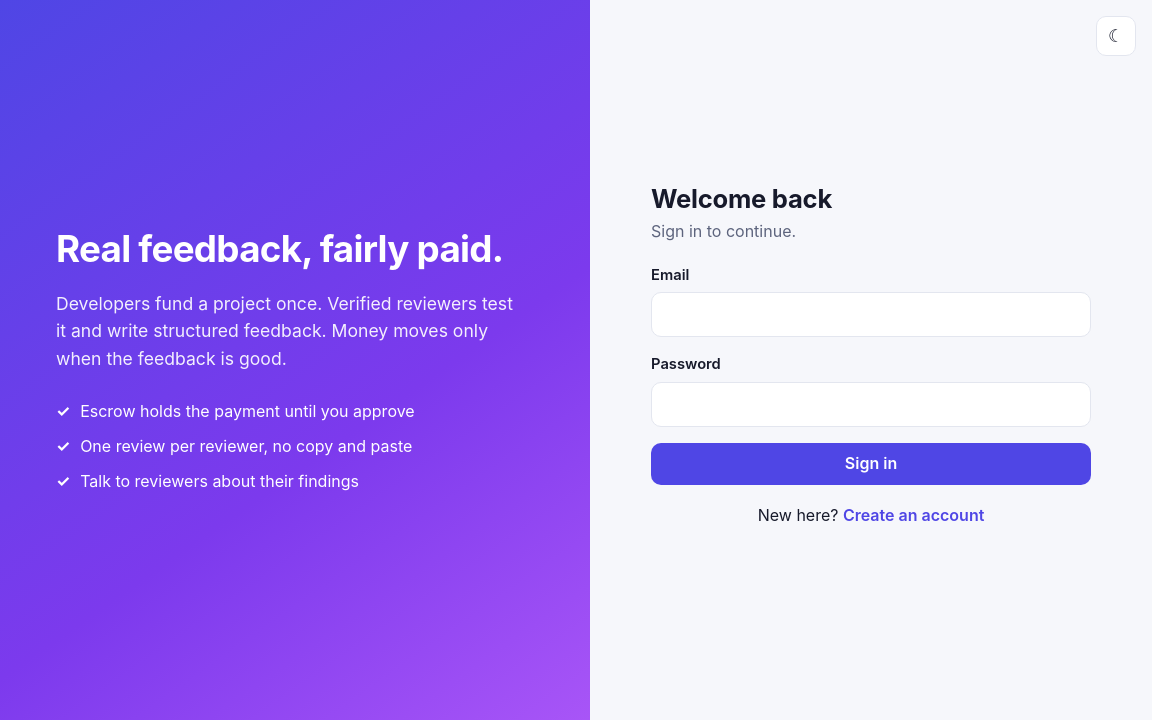
sign in › signs in and lands on the dashboard
This screenshot has width=1152, height=720.
Type "dana@demo.dev" into the field labelled "Email" at (871, 315), box [651,292,1091,337]
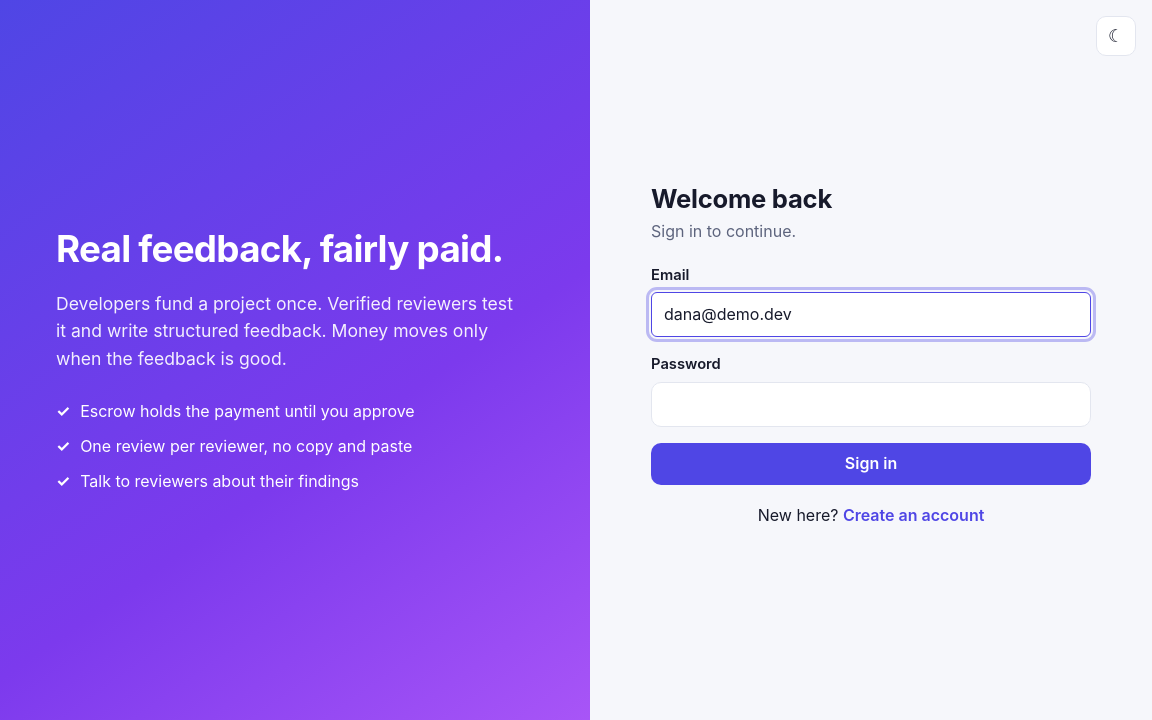
Type "Demo@1234" into the password field labelled "Password" at (871, 404), box [651,382,1091,427]
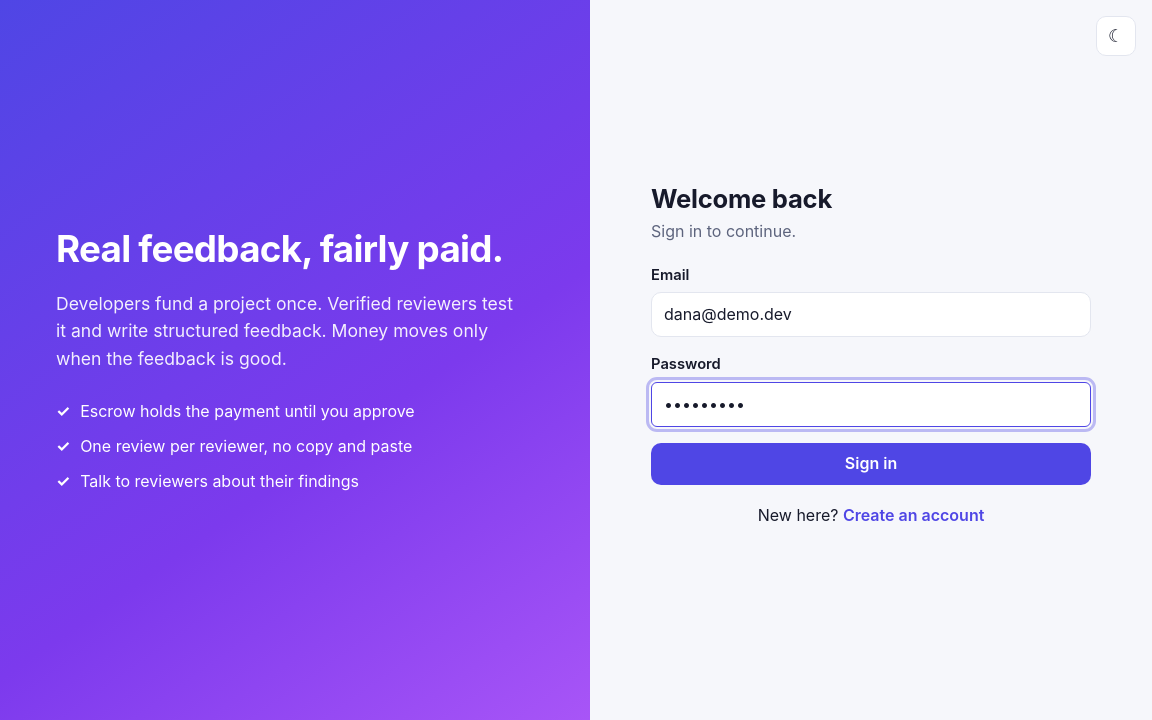
Click the button "Sign in" at (871, 464), box [651,443,1091,485]
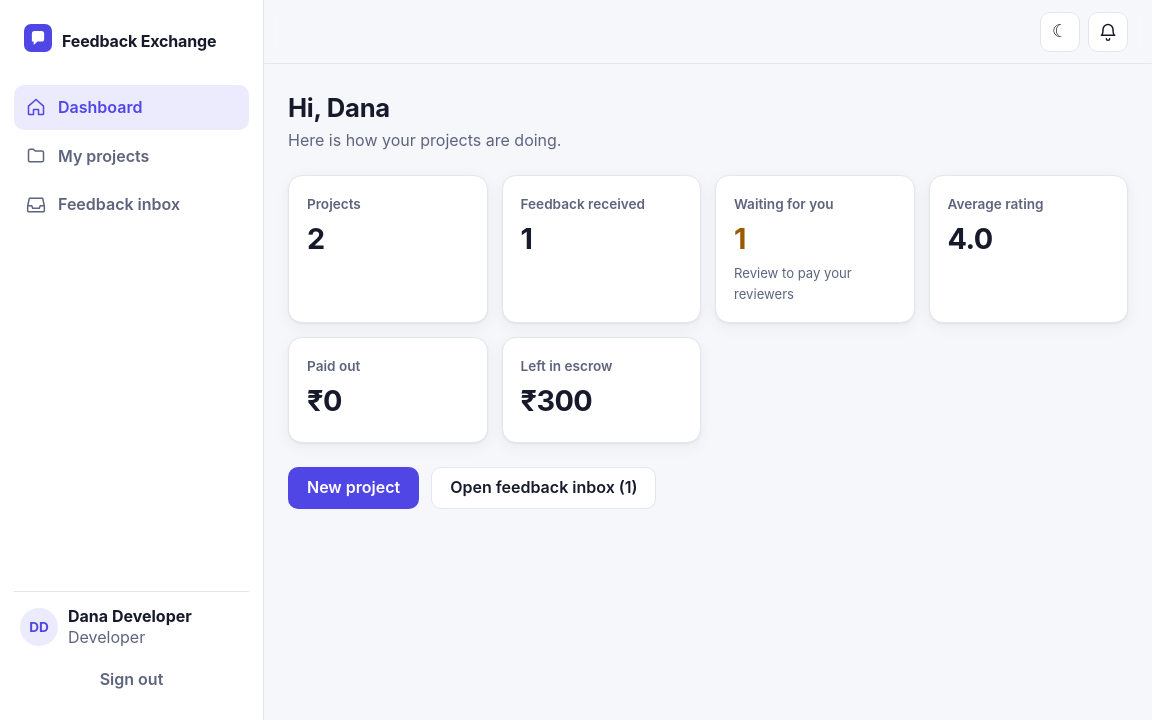
Check: the heading "Hi, Dana" is shown, box [288,92,390,123]
Check: the link "My projects" is shown, box [26,146,149,166]
